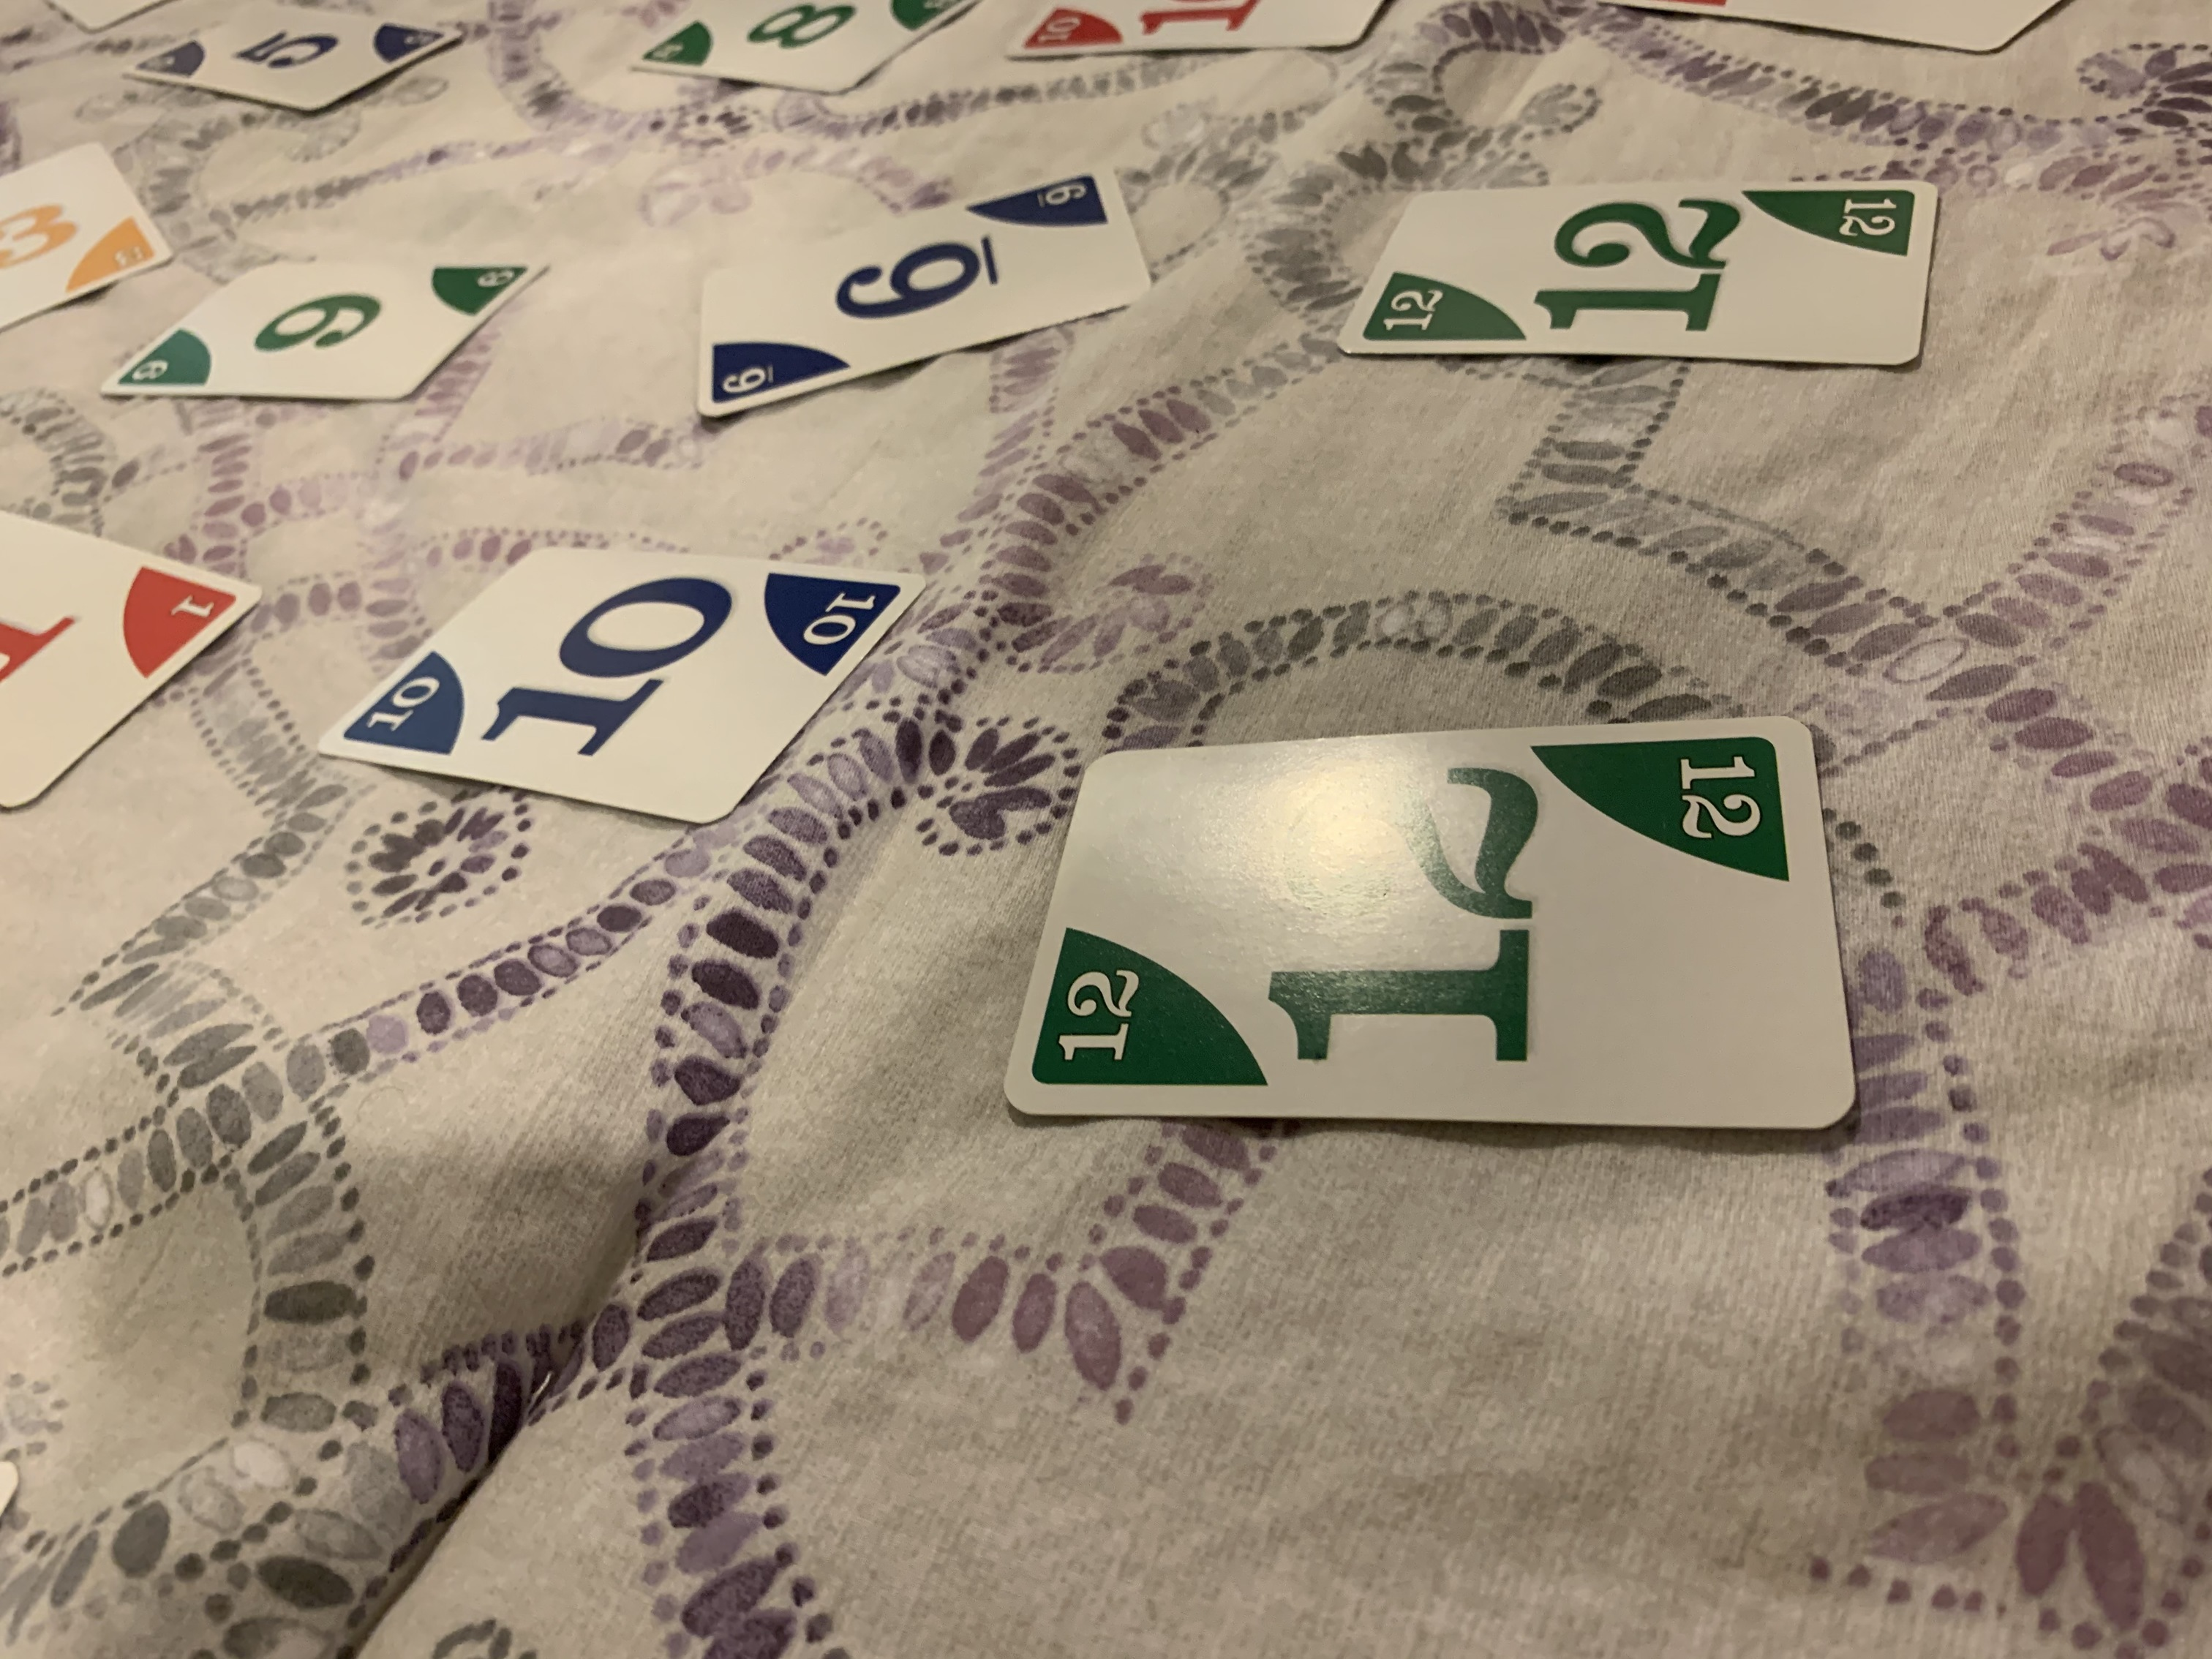six: (660, 162, 1174, 437)
ten: (319, 545, 932, 835)
twelve: (1003, 728, 1860, 1140), (1336, 183, 1944, 373)
